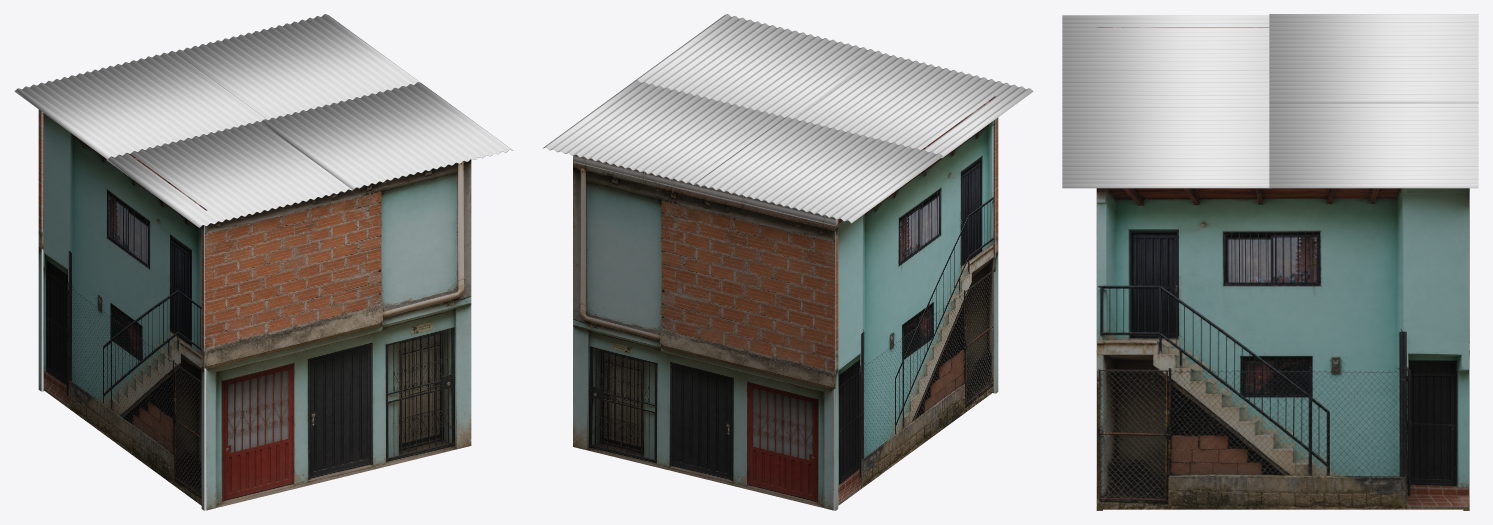
File: casa_2_derecha_08_09.fbx
The picture shows the model from 3 angles, left to right: view 1: azimuth 30°, elevation 25°; view 2: azimuth 150°, elevation 25°; view 3: azimuth 270°, elevation 25°; orthographic projection. The views are drawn at different scales.
Parts seen in each view (by area): view 1: casa_camino2_derecha_08.002, Techo_9, casa_camino2_derecha_09.002, casa_camino2_derecha_08.001; view 2: casa_camino2_derecha_08.001, Techo_9, casa_camino2_derecha_09.002, casa_camino2_derecha_08.002; view 3: casa_camino2_derecha_09.001, Techo_9.
Part boxes in pixels (x1=…): casa_camino2_derecha_08.002: x1=201, y1=159, x2=471, y2=510; Techo_9: x1=14, y1=14, x2=513, y2=227; casa_camino2_derecha_09.002: x1=43, y1=113, x2=207, y2=505; casa_camino2_derecha_08.001: x1=38, y1=109, x2=259, y2=391; casa_camino2_derecha_08.001: x1=573, y1=155, x2=838, y2=510; Techo_9: x1=542, y1=14, x2=1033, y2=223; casa_camino2_derecha_09.002: x1=838, y1=96, x2=995, y2=505; casa_camino2_derecha_08.002: x1=993, y1=117, x2=998, y2=393; casa_camino2_derecha_09.001: x1=1097, y1=188, x2=1468, y2=509; Techo_9: x1=1062, y1=14, x2=1478, y2=188.
Bounding box in the file's own units: 661 × 608 × 673.
